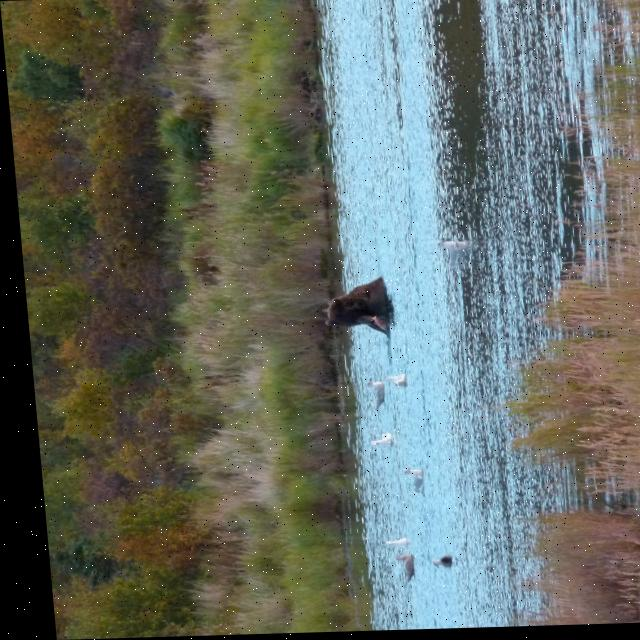bear face: (318, 281, 387, 336)
